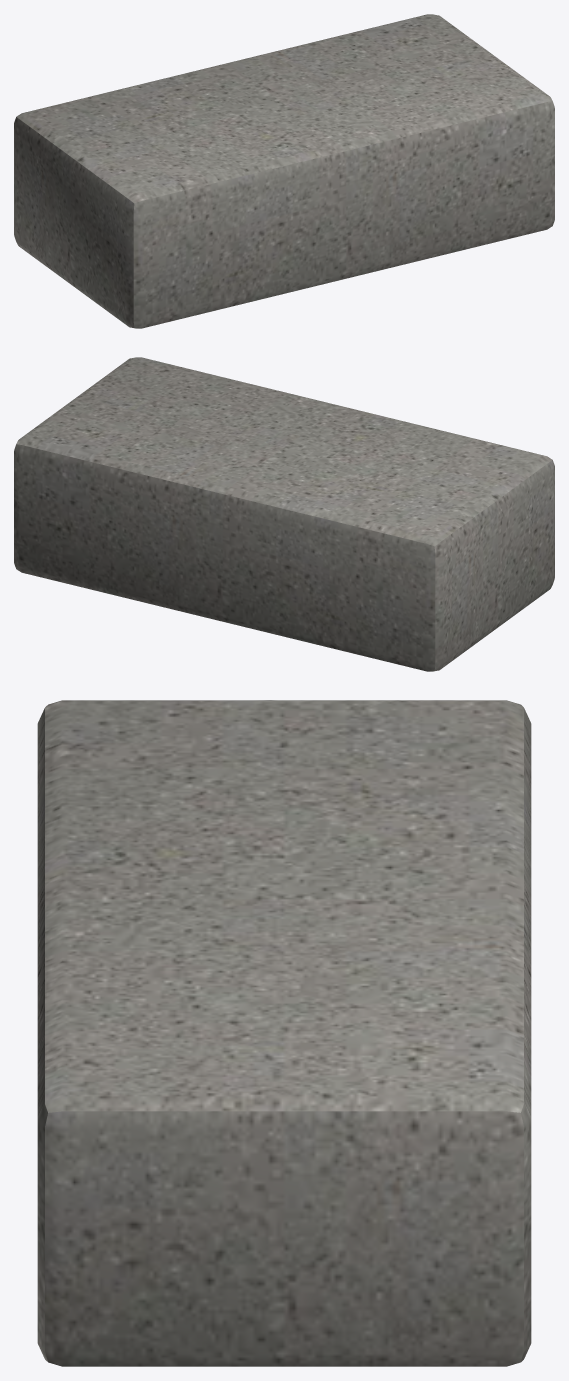
The model's file is PAV-BLQ-002.glb.
3 views of the same model, one above another, from view 1: azimuth 30°, elevation 25°; view 2: azimuth 150°, elevation 25°; view 3: azimuth 270°, elevation 25° (orthographic). The views are drawn at different scales.
Visible parts, largest first — view 1: PAV-BLQ-002_peca; view 2: PAV-BLQ-002_peca; view 3: PAV-BLQ-002_peca.
Part boxes in pixels (x1,y1,x2,y2): PAV-BLQ-002_peca: (14,14,554,328); PAV-BLQ-002_peca: (14,357,554,671); PAV-BLQ-002_peca: (37,700,531,1366).
Bounding box in the file's own units: 0.2 × 0.06 × 0.1.
Materials: 1 (1 with a texture image).
